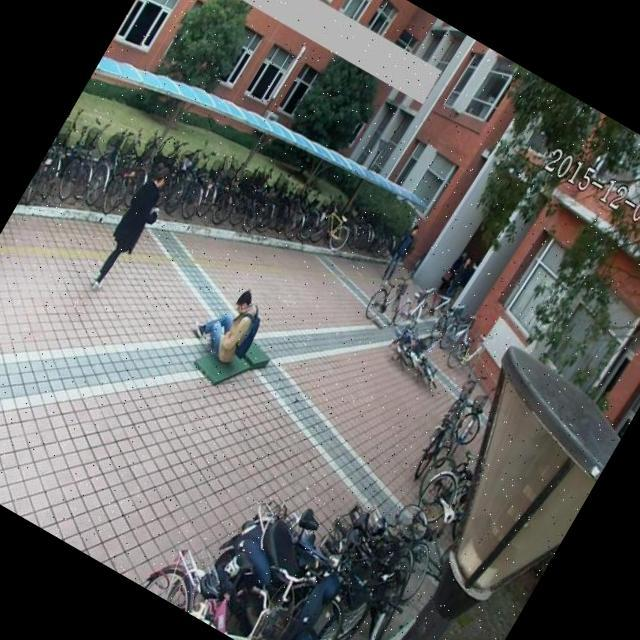person: (78, 156, 183, 304), (185, 264, 282, 375), (373, 216, 428, 290), (441, 250, 481, 301)
